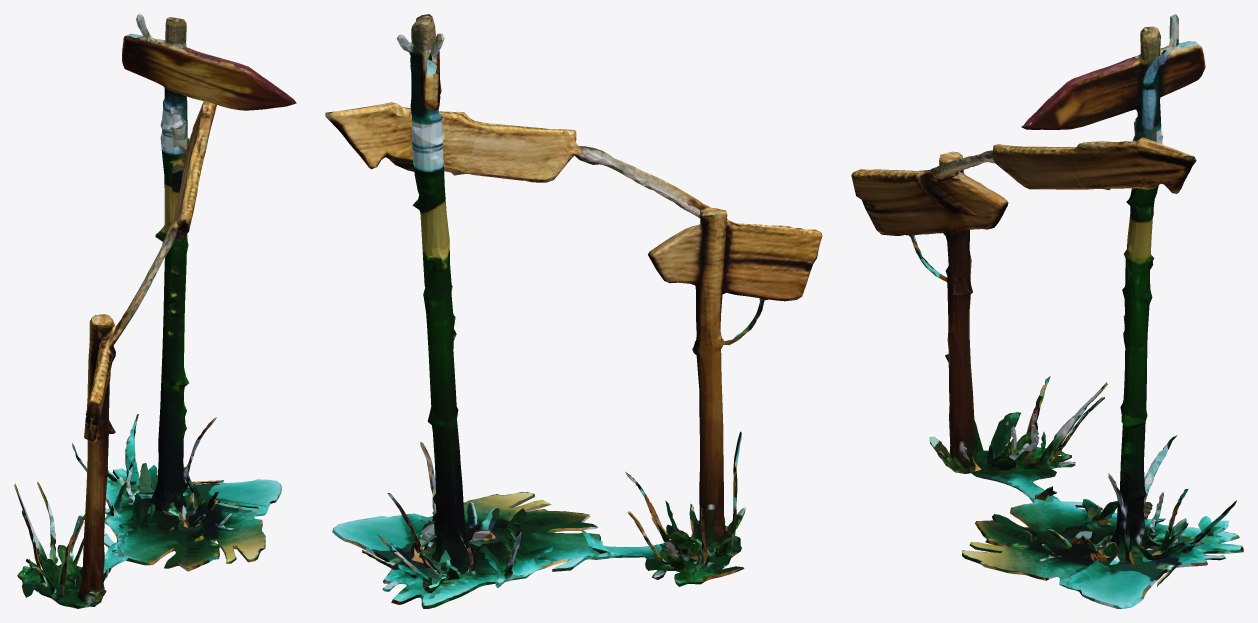
The model's file is signpost.glb.
3 renders of one model, left to right at view 1: azimuth 30°, elevation 25°; view 2: azimuth 150°, elevation 25°; view 3: azimuth 270°, elevation 25°, orthographic. The views are drawn at different scales.
Parts seen in each view (by area): view 1: tmpiai2qmqx.ply; view 2: tmpiai2qmqx.ply; view 3: tmpiai2qmqx.ply.
Part boxes in pixels (x1,y1,x2,y2): tmpiai2qmqx.ply: [14, 14, 296, 608]; tmpiai2qmqx.ply: [325, 14, 822, 608]; tmpiai2qmqx.ply: [851, 14, 1243, 608].
Bounding box in the file's own units: 1.34 × 1.99 × 1.33.
1 material, 1 textured.
